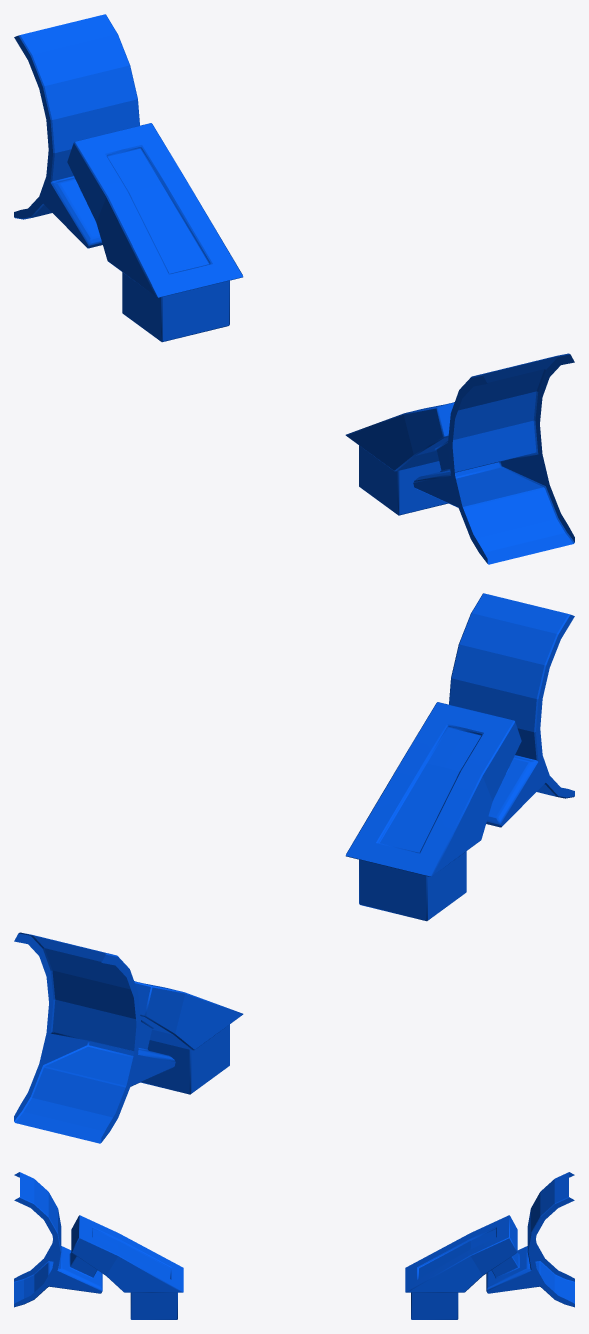
File: Vagon_Plataforma_Gancho.fbx
The picture shows the model from 3 angles, top to bottom: view 1: azimuth 30°, elevation 25°; view 2: azimuth 150°, elevation 25°; view 3: azimuth 270°, elevation 25°; orthographic projection. The views are drawn at different scales.
Parts seen in each view (by area): view 1: Vagon_Plataforma_Gancho_IZQ, Vagon_Plataforma_Gancho_DER; view 2: Vagon_Plataforma_Gancho_DER, Vagon_Plataforma_Gancho_IZQ; view 3: Vagon_Plataforma_Gancho_DER, Vagon_Plataforma_Gancho_IZQ.
Boxes of the visible parts, <box> form: Vagon_Plataforma_Gancho_IZQ: <box>14,14,243,342</box>; Vagon_Plataforma_Gancho_DER: <box>345,353,574,564</box>; Vagon_Plataforma_Gancho_DER: <box>345,593,574,921</box>; Vagon_Plataforma_Gancho_IZQ: <box>14,932,243,1143</box>; Vagon_Plataforma_Gancho_DER: <box>14,1172,183,1319</box>; Vagon_Plataforma_Gancho_IZQ: <box>405,1172,574,1319</box>.
Size of the model in its own units: 100 by 232 by 938.
